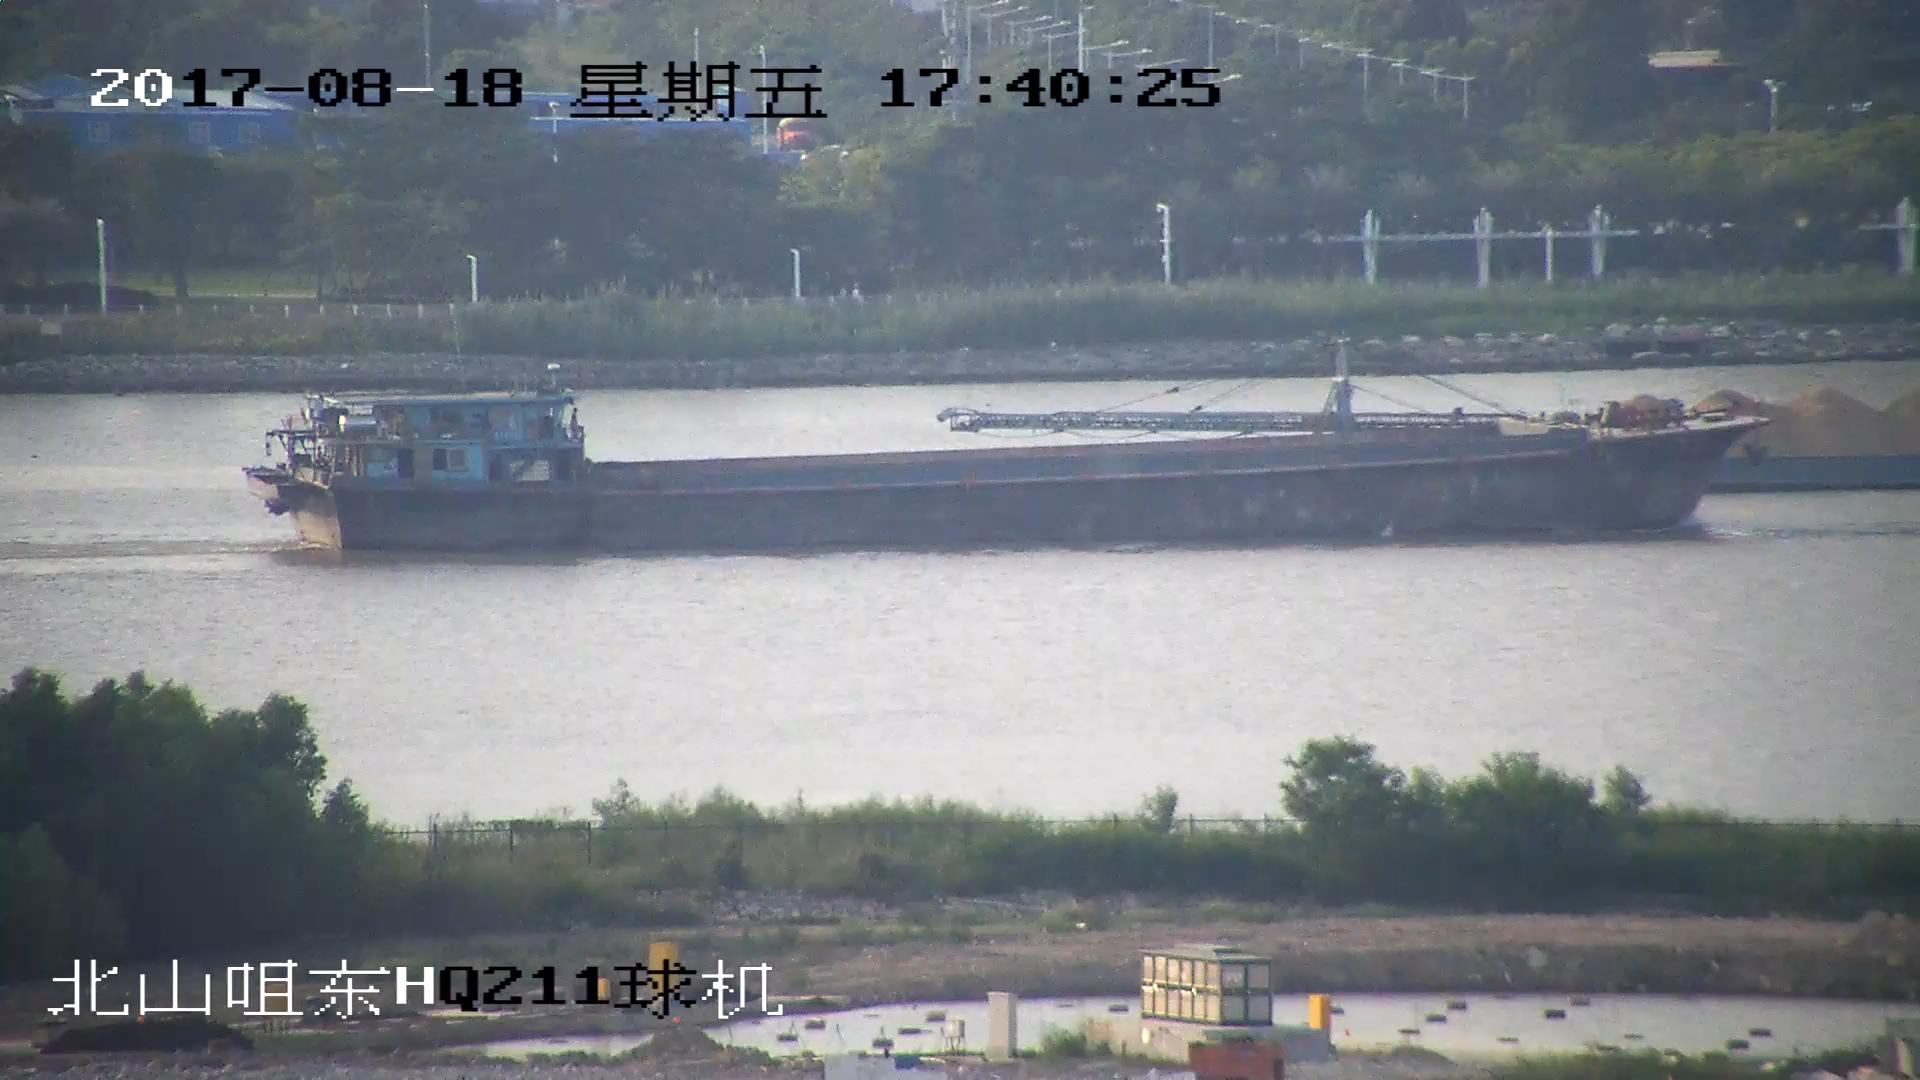bulk cargo carrier: (244, 387, 1769, 548)
ore carrier: (944, 350, 1920, 491)
